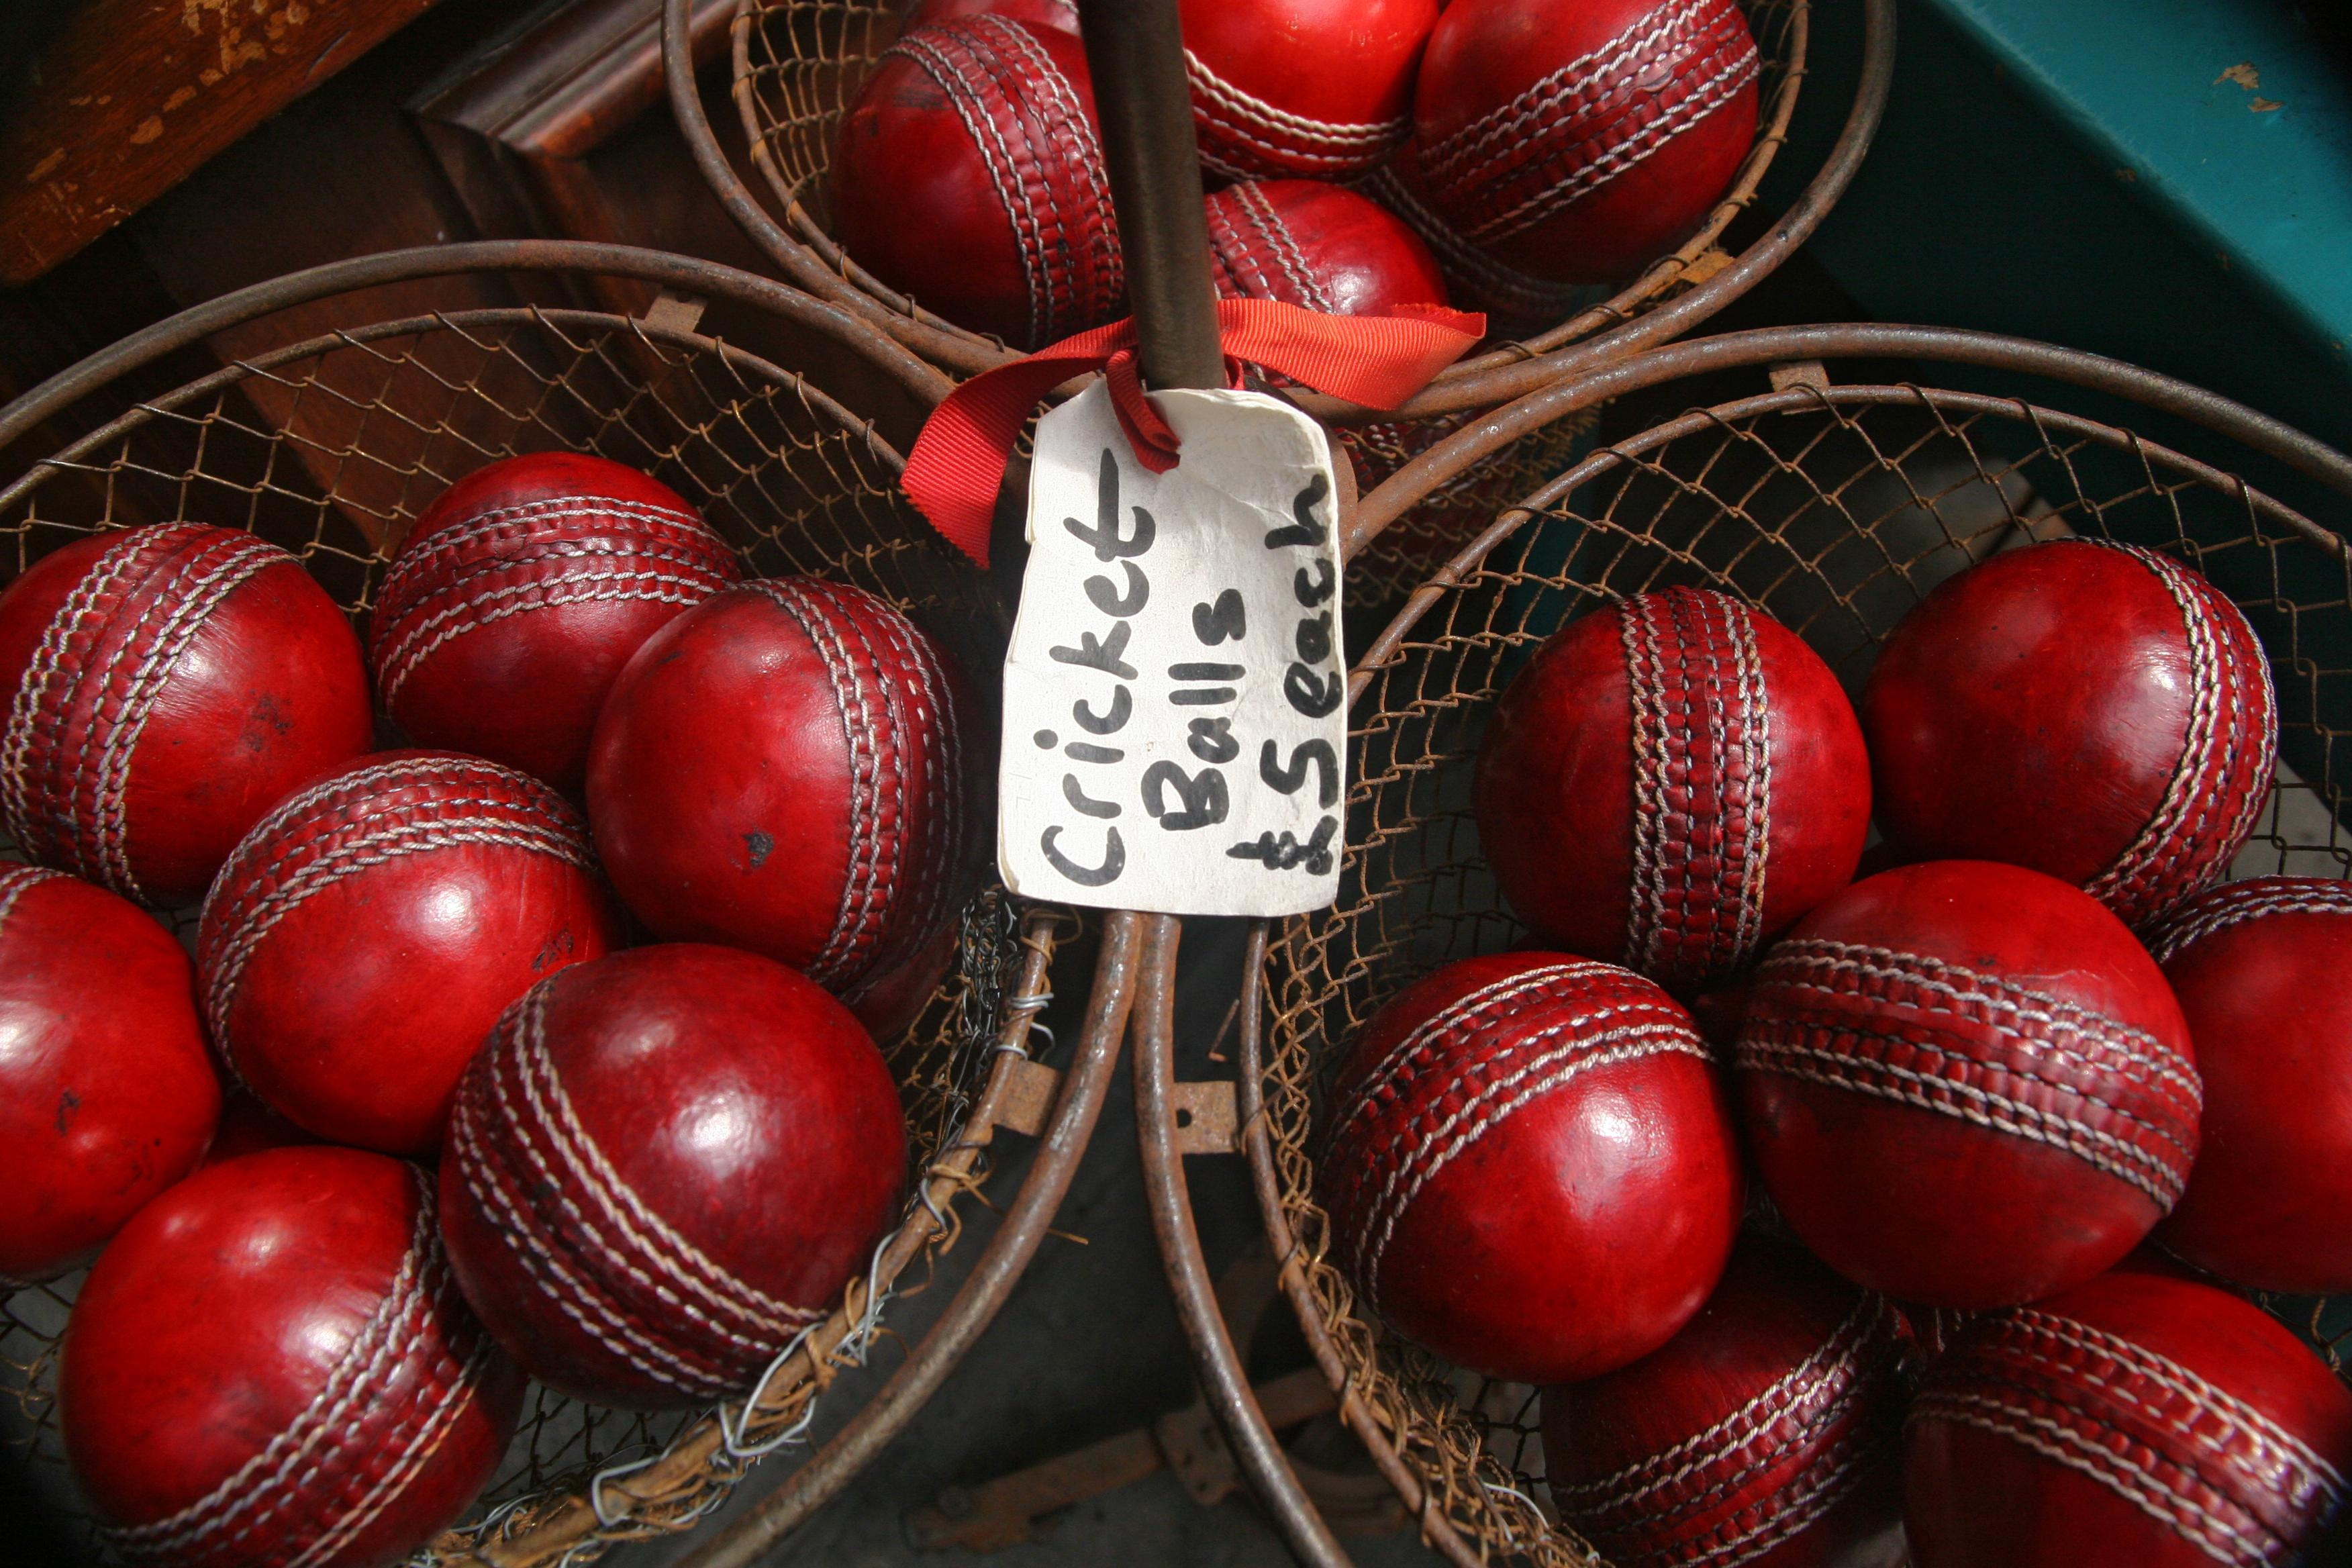Red_Ball: (438, 968, 901, 1405), (1760, 870, 2208, 1319), (54, 1139, 537, 1540), (194, 747, 626, 1153), (1337, 955, 1729, 1393), (1852, 555, 2289, 915), (1438, 607, 1869, 968), (595, 592, 982, 961), (0, 523, 364, 856), (1923, 1267, 2329, 1563), (364, 478, 740, 780), (1564, 1248, 1902, 1556), (0, 859, 217, 1274), (1411, 0, 1775, 247), (838, 19, 1113, 333), (2172, 851, 2347, 1311), (1213, 149, 1447, 380), (1185, 3, 1419, 145), (1545, 180, 1577, 198)
